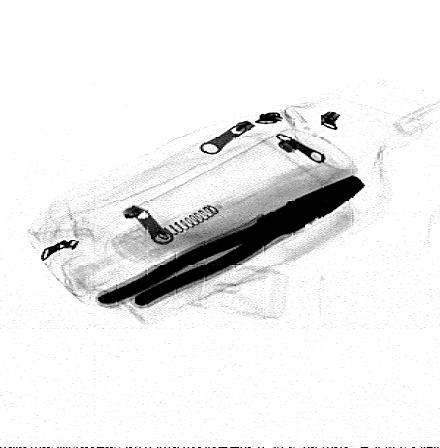Pliers: (95, 174, 365, 309)
